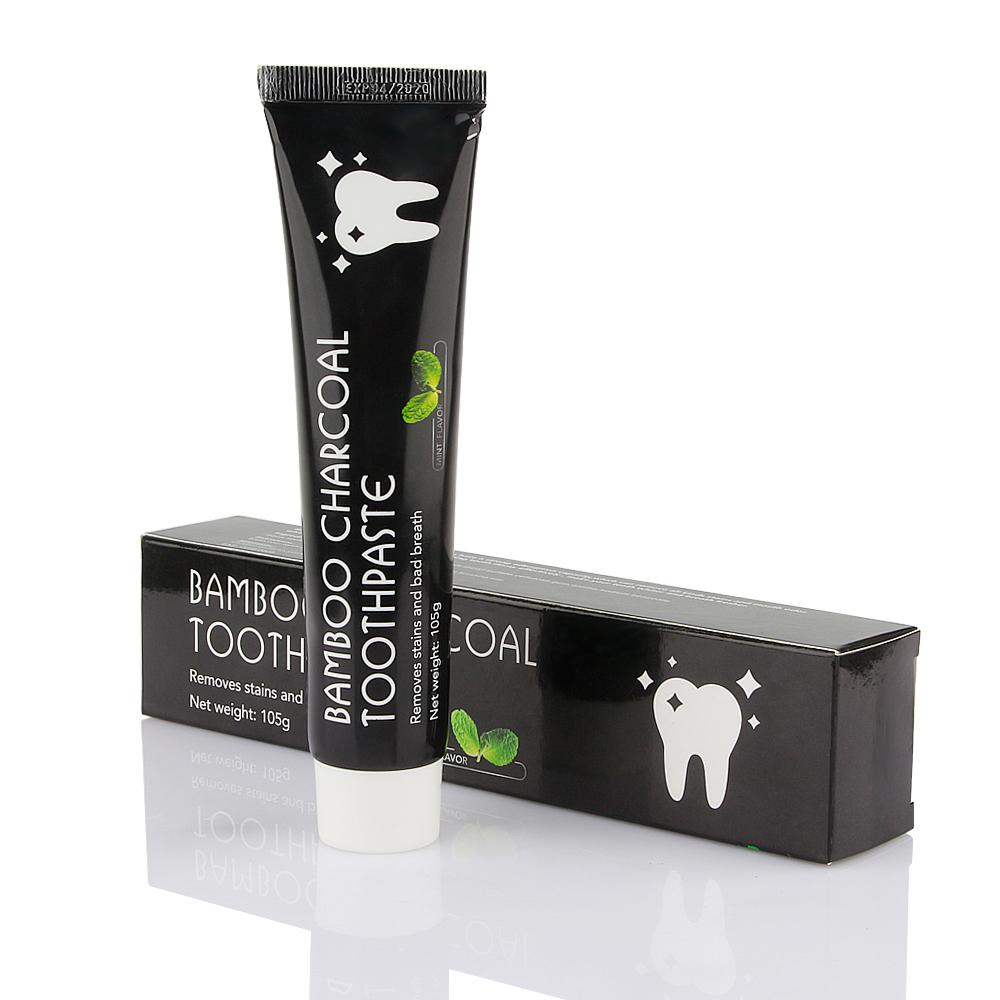toothpaste: (125, 497, 942, 914), (234, 49, 480, 872)
